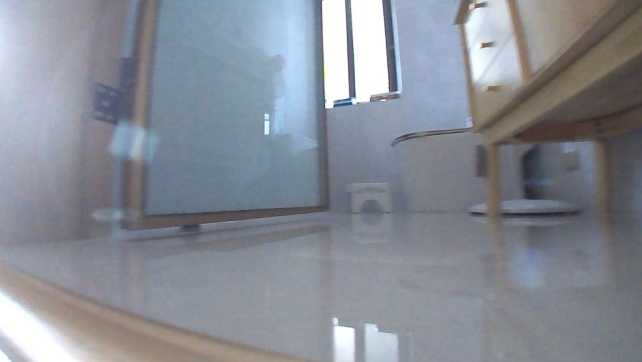door_anno: (127, 0, 335, 233)
door_sill: (0, 252, 321, 360)
plastic_stool: (343, 180, 391, 213)
toilet: (388, 116, 534, 213)
